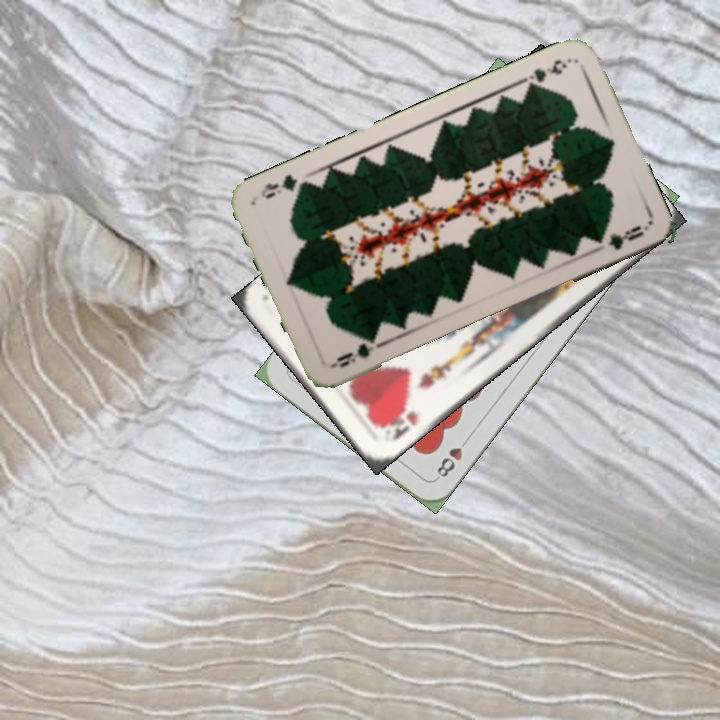G9: (518, 54, 574, 93), (327, 333, 383, 371)
H8: (431, 432, 473, 482)
HK: (378, 405, 421, 445)
